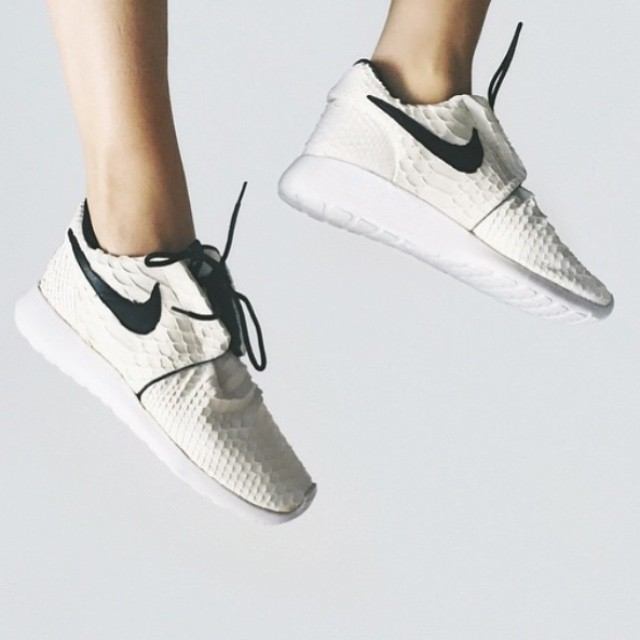sneaker: (1, 165, 341, 545), (255, 11, 630, 344)
